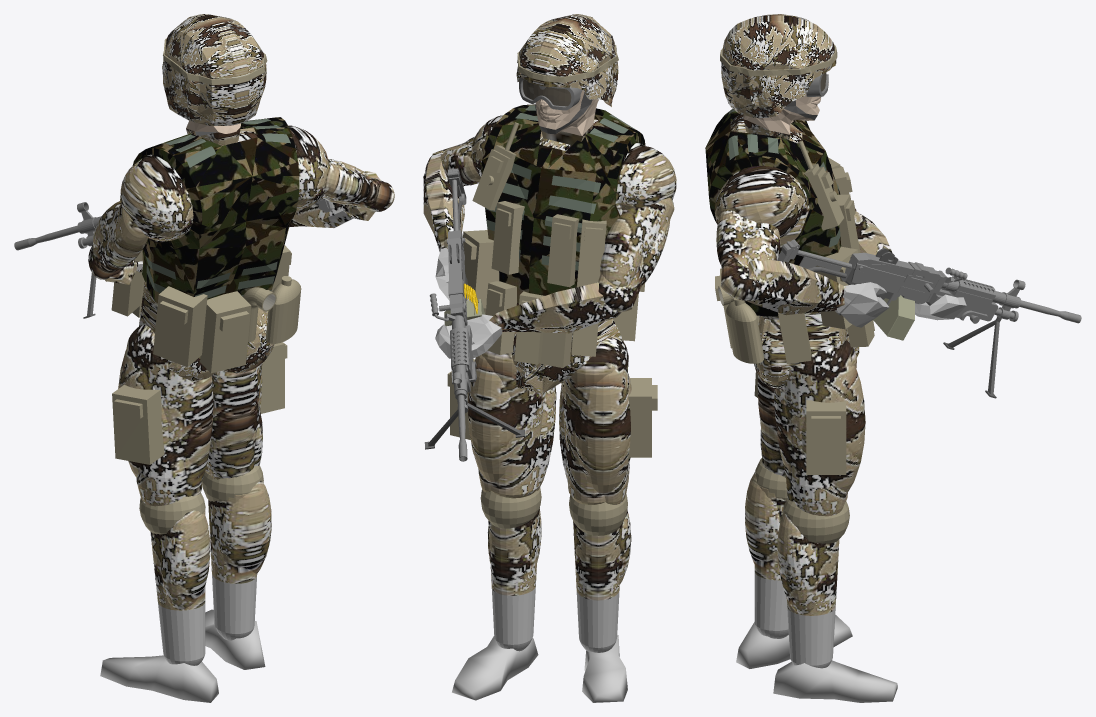
3 views of the same model, side by side, from view 1: azimuth 30°, elevation 25°; view 2: azimuth 150°, elevation 25°; view 3: azimuth 270°, elevation 25° (orthographic). The views are drawn at different scales.
Visible parts, largest first — view 1: US_Soldiers; view 2: US_Soldiers; view 3: US_Soldiers.
Part boxes in pixels (left/top/right/bottom): US_Soldiers: left=14, top=14, right=394, bottom=702; US_Soldiers: left=423, top=14, right=676, bottom=702; US_Soldiers: left=705, top=14, right=1081, bottom=702.
Bounding box in the file's own units: 245 × 597 × 310.
